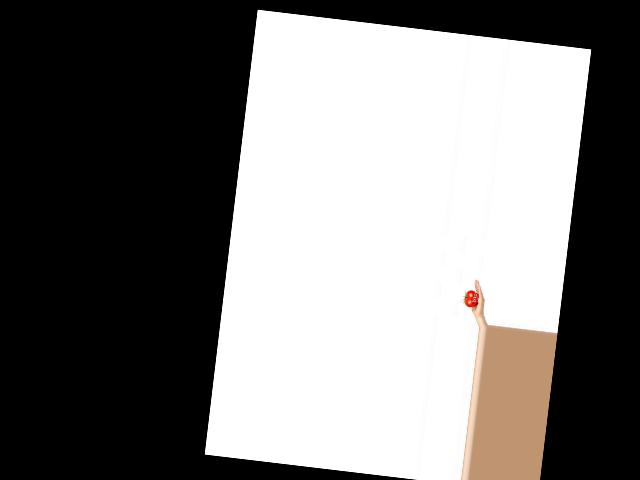tomato: (463, 289, 479, 308)
